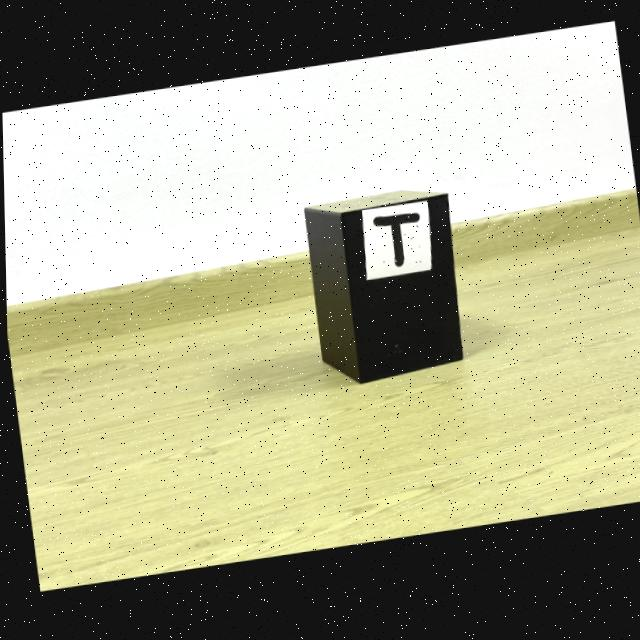T: (372, 216, 418, 270)
